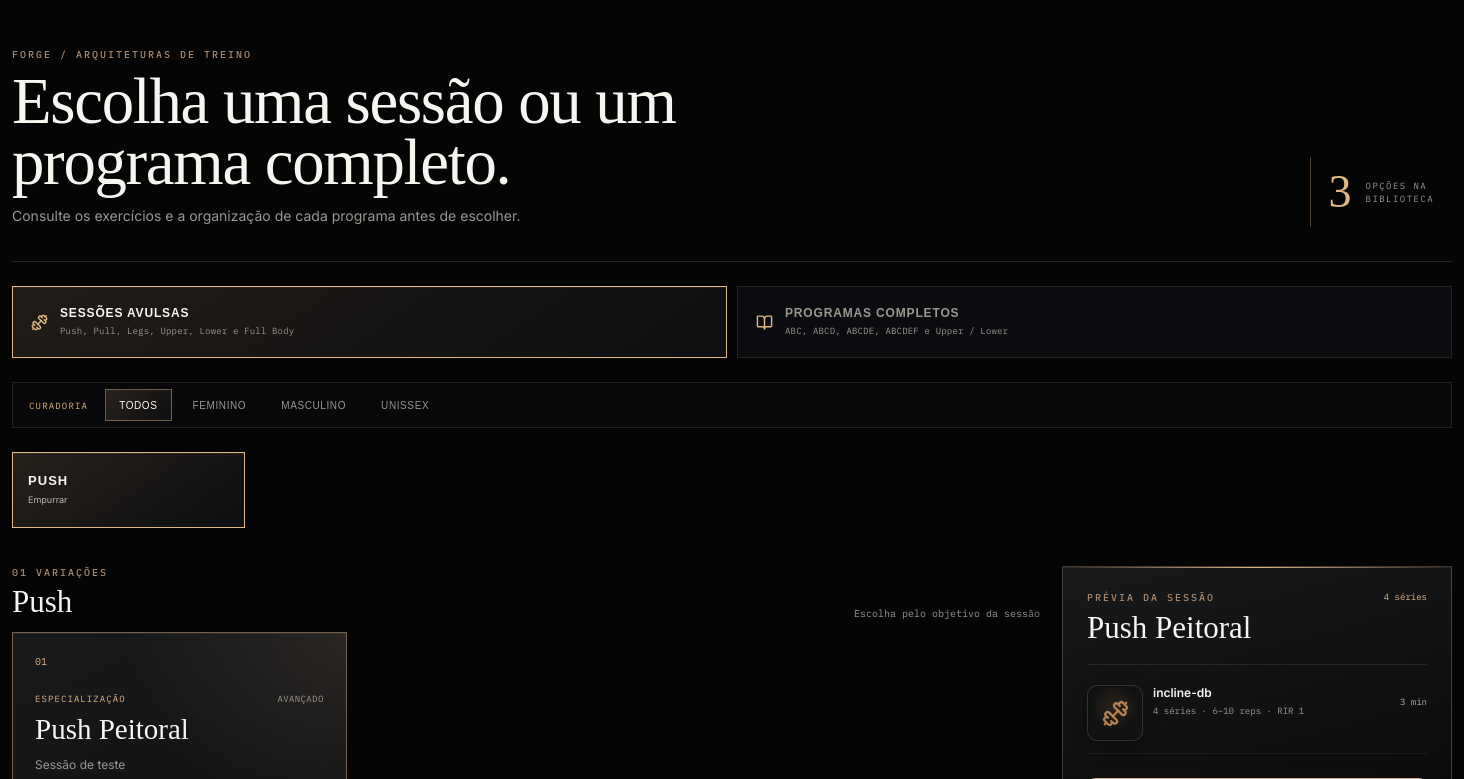
Test: WorkoutLibrary mobile apply interaction › Masculino abre programas e filtra sem exibir a curadoria feminina
The image size is (1464, 779).
Click the button with test id "library-audience-male" at [314, 405], box [267,389,360,421]
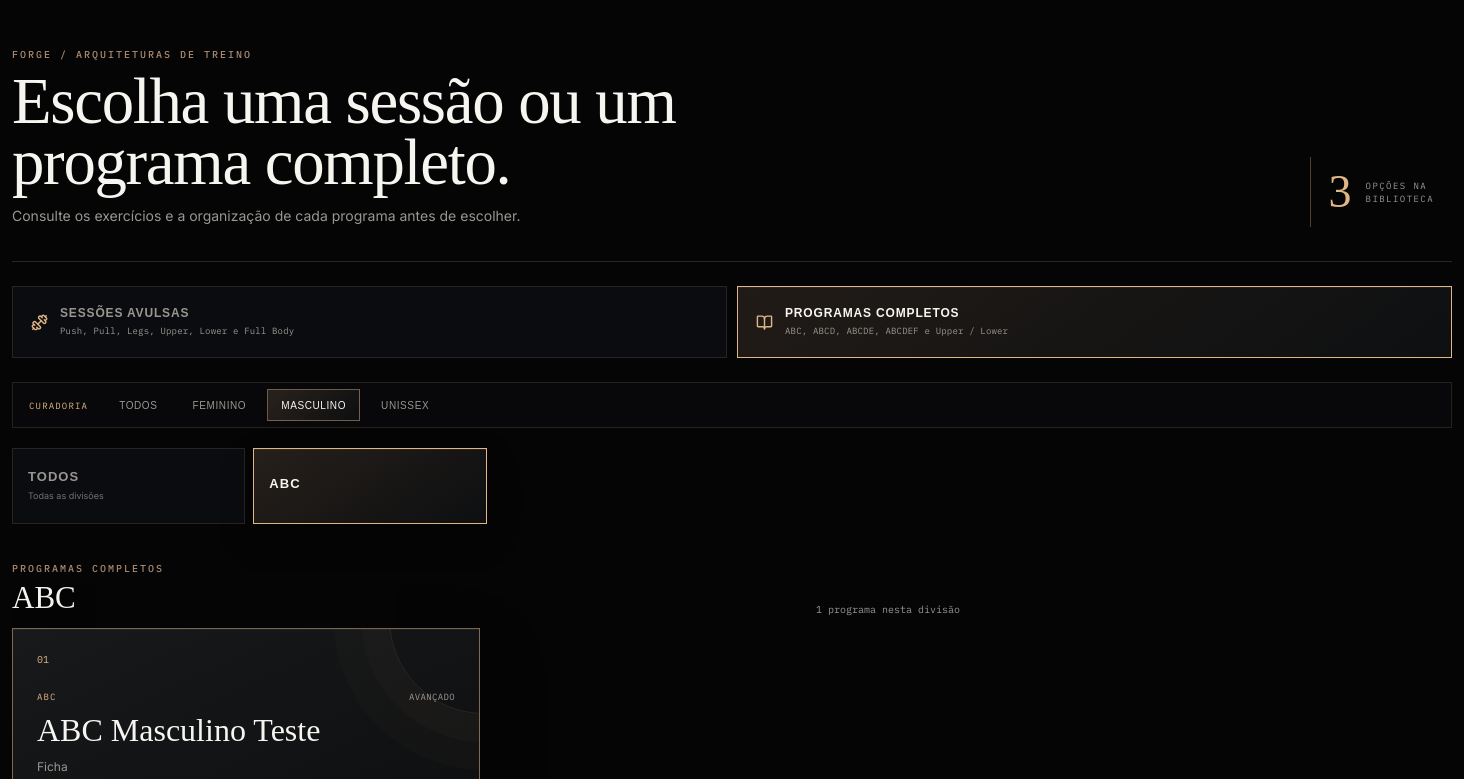
Result: the text "ABC Masculino Teste" is shown at [37,712,320,748]
